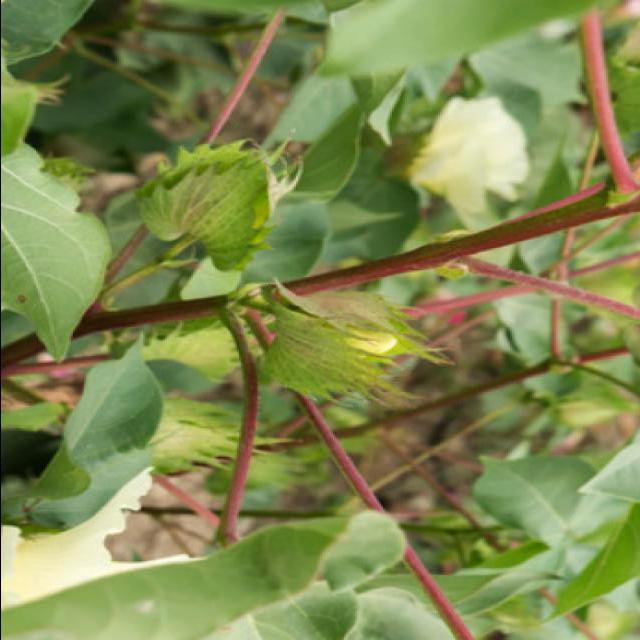Cotton Blossom: (373, 92, 528, 236)
Cotton Bud: (260, 286, 444, 400), (138, 127, 300, 255), (136, 397, 272, 489), (133, 320, 240, 393)
